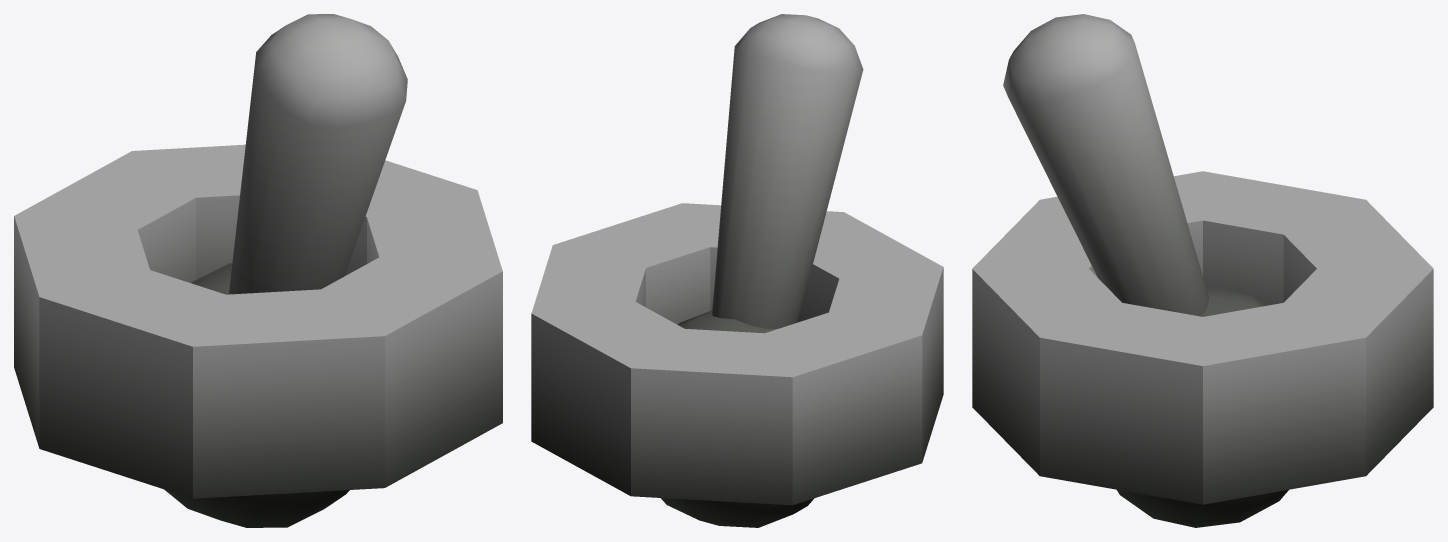
Rendered from Switch3.FBX.
The picture shows the model from 3 angles, left to right: view 1: azimuth 30°, elevation 25°; view 2: azimuth 150°, elevation 25°; view 3: azimuth 270°, elevation 25°; orthographic projection. The views are drawn at different scales.
Parts seen in each view (by area): view 1: Switch3; view 2: Switch3; view 3: Switch3.
Part boxes in pixels (box(x1,y1,x2,y2)): Switch3: box(14, 14, 502, 527); Switch3: box(531, 14, 943, 527); Switch3: box(972, 14, 1433, 527).
Bounding box in the file's own units: 5.14 × 6.09 × 5.14.
